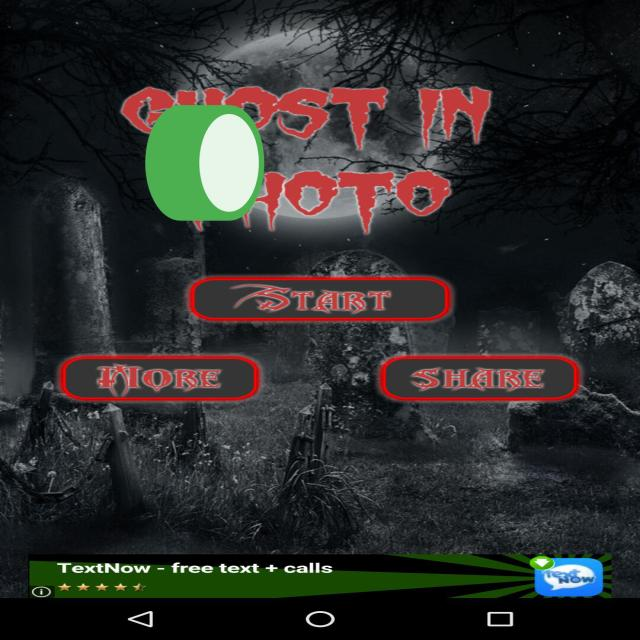social proof: (140, 61, 270, 274)
